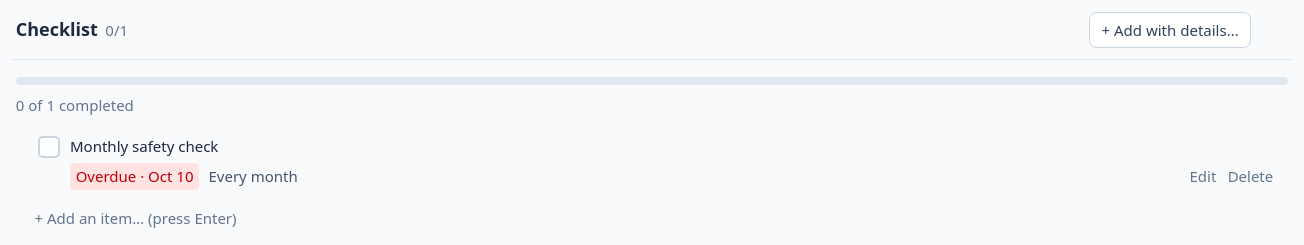
Test: Checklist › a repeating item ticked off stays on the list with its next date (audit 1.26)
The width and height of the screenshot is (1304, 245).
Expected: the text "Every month" is shown, x1=203 y1=163 x2=303 y2=190
Click the checkbox named "Mark complete".
click(48, 147)  # box x1=34 y1=135 x2=62 y2=158
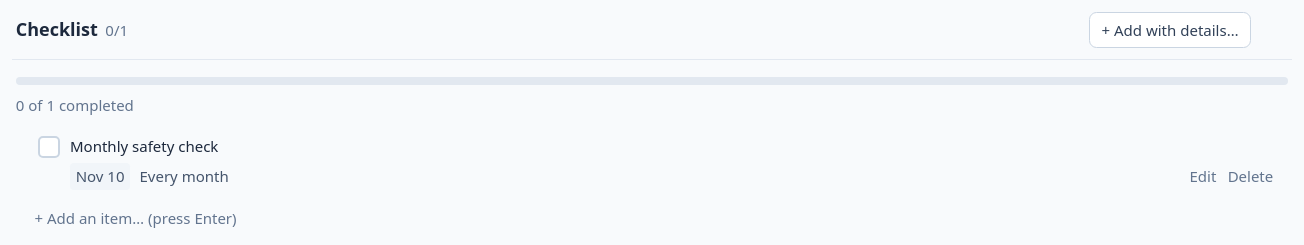
Result: the button "Nov 10" is shown at x1=70 y1=163 x2=130 y2=190
